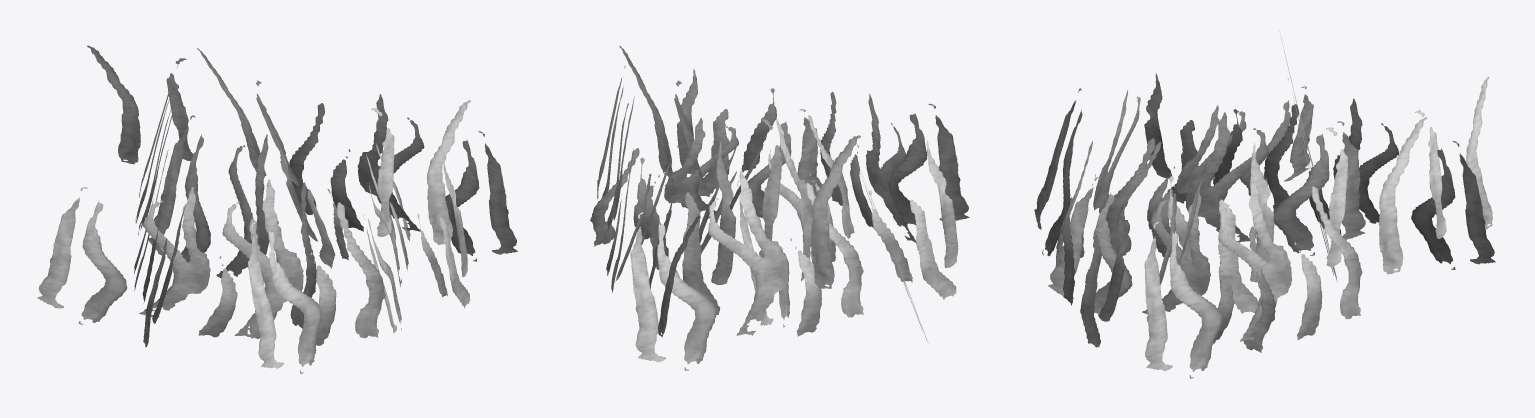
Rendered from SM_GrassClump.fbx.
The picture shows the model from 3 angles, left to right: view 1: azimuth 30°, elevation 25°; view 2: azimuth 150°, elevation 25°; view 3: azimuth 270°, elevation 25°; orthographic projection. The views are drawn at different scales.
Parts seen in each view (by area): view 1: SM_Grass; view 2: SM_Grass; view 3: SM_Grass.
Part boxes in pixels (x1=…): SM_Grass: x1=37, y1=45, x2=517, y2=373; SM_Grass: x1=590, y1=45, x2=969, y2=370; SM_Grass: x1=1034, y1=31, x2=1495, y2=378.
Bounding box in the file's own units: 96.3 × 43.71 × 92.68.
Materials: 1 (1 with a texture image).
